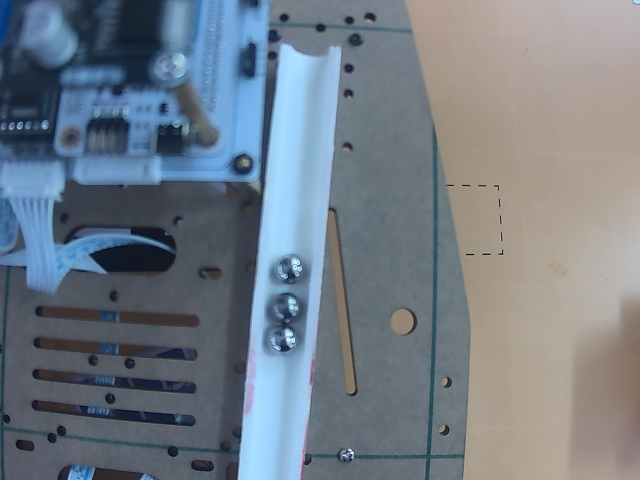steelball: (270, 293, 300, 323), (276, 255, 303, 284), (269, 326, 297, 353)
